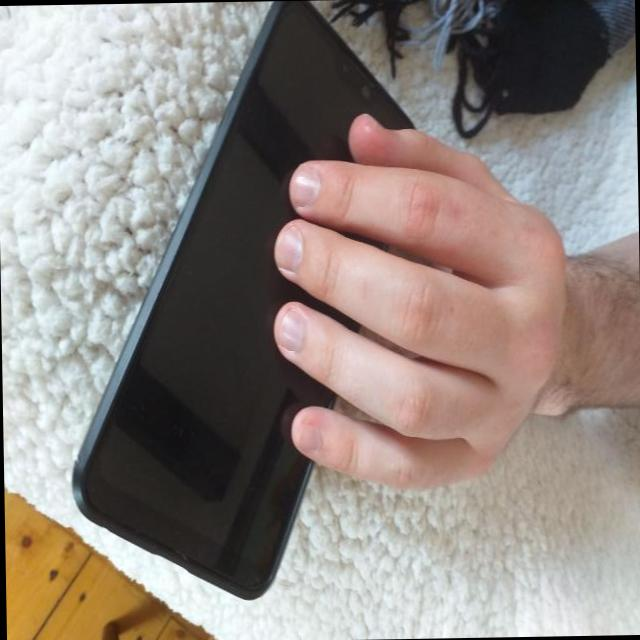Nail: (275, 309, 306, 353), (289, 165, 319, 207), (275, 229, 303, 272), (297, 423, 318, 449)
